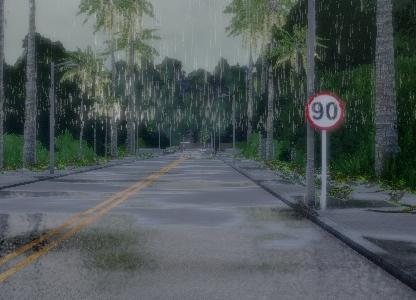Speed_90: (304, 91, 347, 134)
